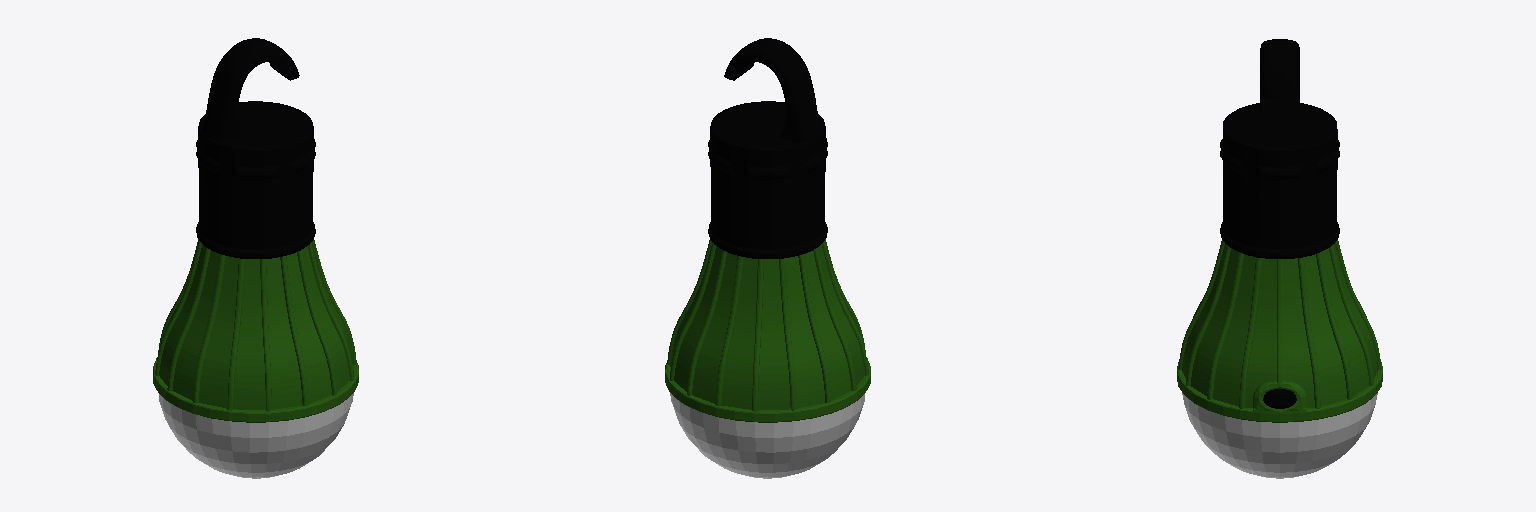
Rendered from bulb.obj.
3 renders of one model, left to right at view 1: azimuth 30°, elevation 25°; view 2: azimuth 150°, elevation 25°; view 3: azimuth 270°, elevation 25°, orthographic.
Parts seen in each view (by area): view 1: Body, Hook, Lamp; view 2: Body, Hook, Lamp; view 3: Body, Hook, Lamp, Button.
Part boxes in pixels (x1,y1,x2,y2): Body: (153, 239, 358, 422); Hook: (196, 38, 315, 258); Lamp: (159, 393, 353, 478); Body: (665, 239, 870, 422); Hook: (708, 38, 827, 258); Lamp: (670, 393, 864, 478); Body: (1177, 240, 1382, 422); Hook: (1220, 39, 1339, 258); Lamp: (1182, 393, 1377, 478); Button: (1253, 381, 1306, 413).
Bounding box in the file's own units: 0.0623 × 0.1419 × 0.0623.